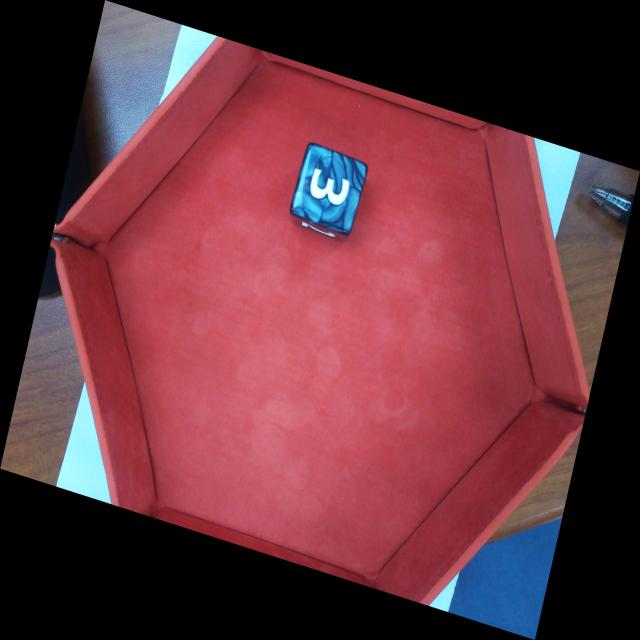dice: (291, 142, 368, 236)
